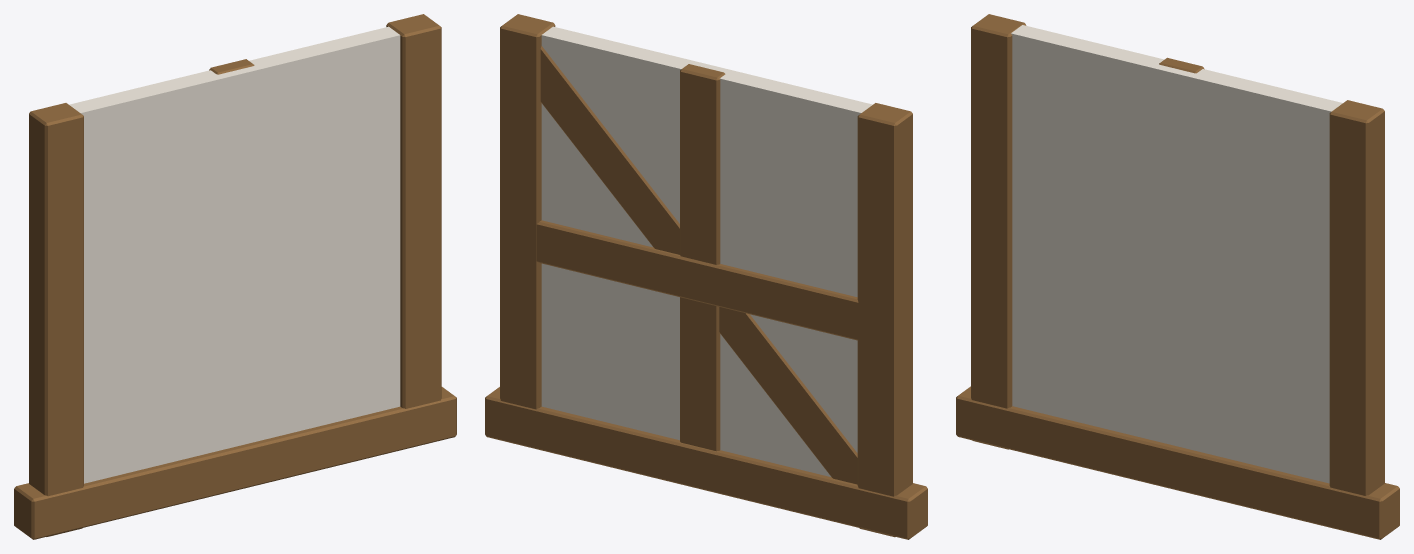
The model's file is WallCrossDiagL.fbx.
The picture shows the model from 3 angles, left to right: view 1: azimuth 30°, elevation 25°; view 2: azimuth 150°, elevation 25°; view 3: azimuth 330°, elevation 25°; orthographic projection.
Visible parts, largest first — view 1: Cube.040, Cube.050, Cube.053, Cube.049; view 2: Cube.040, Cube.050, Cube.053, Cube.049, Cube.048, Cube.051, Cube.047; view 3: Cube.040, Cube.049, Cube.053, Cube.050.
Part boxes in pixels (box(x1,y1,x2,y2)): Cube.040: box(69, 26, 400, 483); Cube.050: box(29, 103, 83, 536); Cube.053: box(14, 387, 456, 539); Cube.049: box(386, 14, 441, 408); Cube.040: box(541, 26, 872, 476); Cube.050: box(857, 103, 912, 537); Cube.053: box(485, 387, 927, 539); Cube.049: box(500, 14, 555, 409); Cube.048: box(540, 46, 857, 484); Cube.051: box(536, 220, 858, 340); Cube.047: box(680, 64, 725, 451); Cube.040: box(1011, 25, 1342, 483); Cube.049: box(1329, 100, 1384, 495); Cube.053: box(956, 386, 1399, 539); Cube.050: box(971, 14, 1026, 449).
Size of the model in its own units: 216 by 202 by 17.27.
